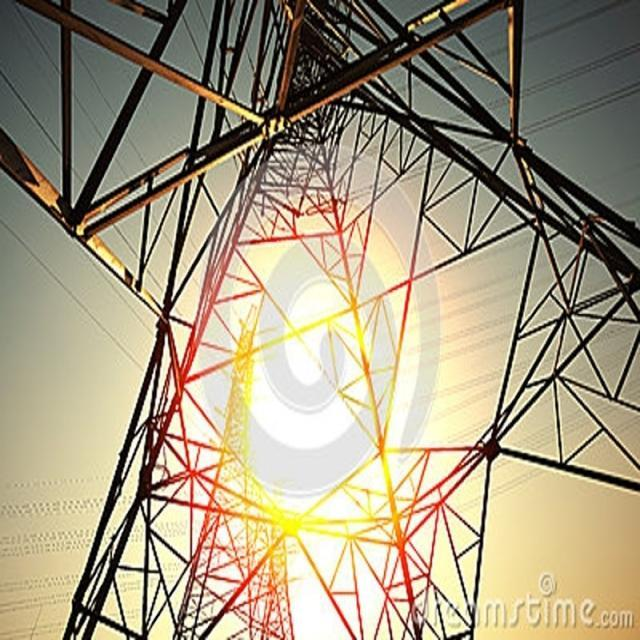non-critical vegetation: (10, 4, 632, 618)
